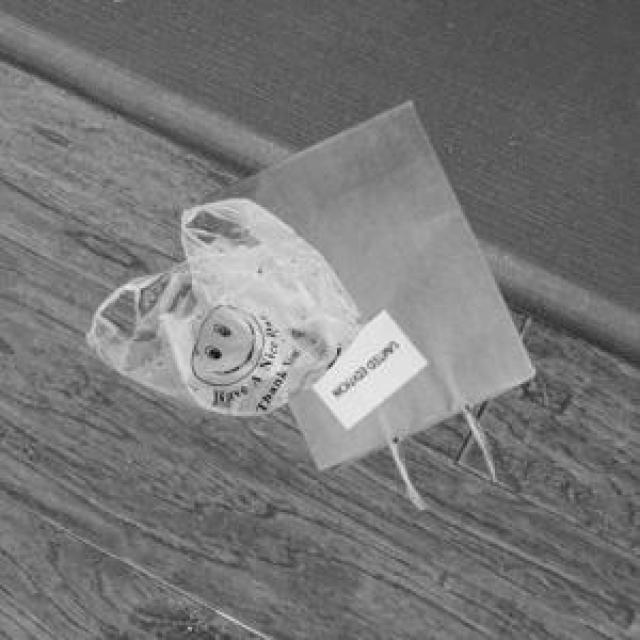paper: (198, 96, 531, 508)
